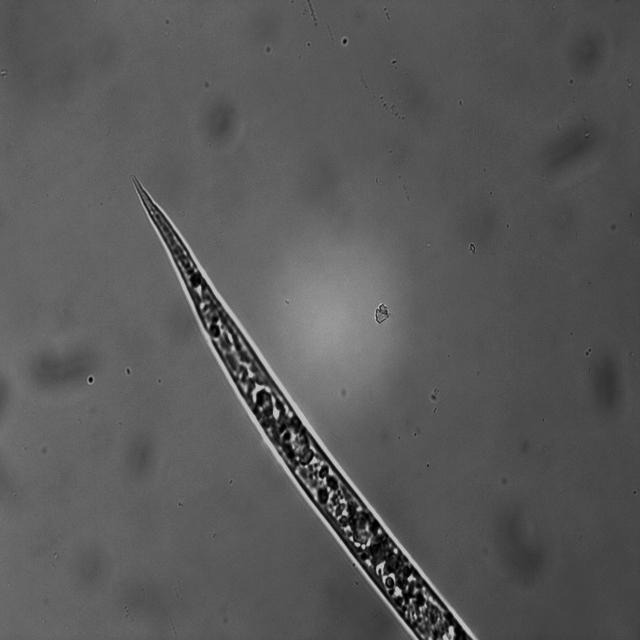Meloidogyne: (128, 167, 482, 640)
